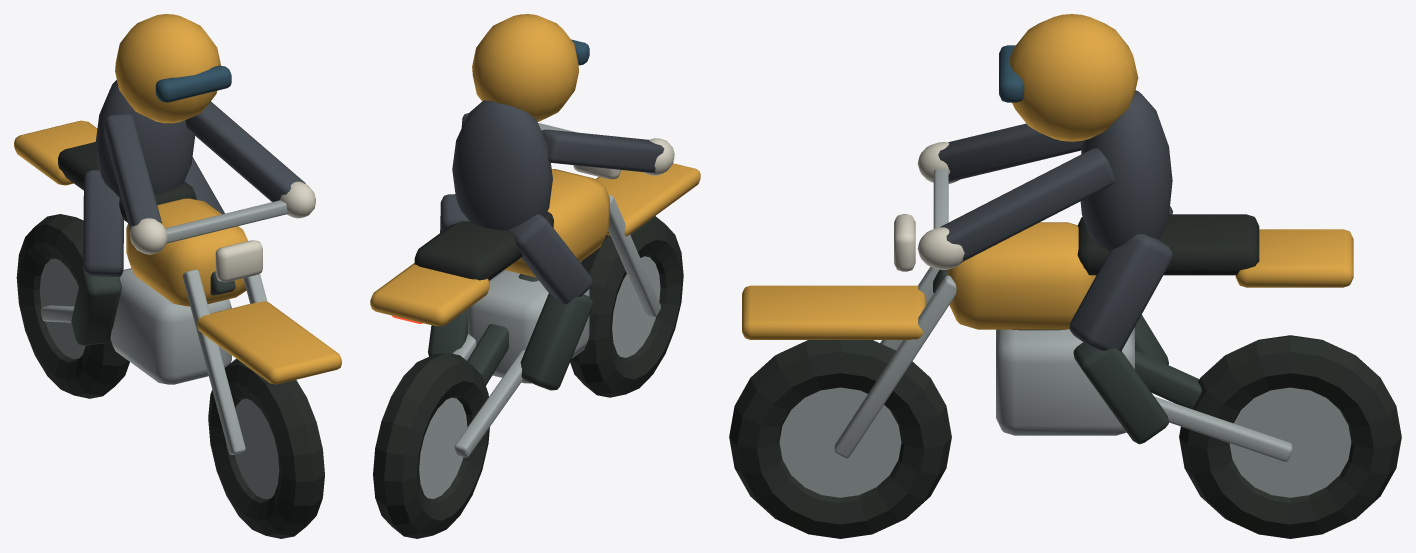
The model's file is car-10.glb.
3 views of the same model, side by side, from view 1: azimuth 30°, elevation 25°; view 2: azimuth 150°, elevation 25°; view 3: azimuth 270°, elevation 25° (orthographic). The views are drawn at different scales.
Parts seen in each view (by area): view 1: front_fender.001, engine.001, tyre.002, tyre.003, helmet.001, rider_torso.001, arm.003, thigh.002, arm.002, rim.002, boot.002, rim.003 (+7 smaller); view 2: front_fender.001, tyre.003, rider_torso.001, tyre.002, engine.001, helmet.001, seat.001, boot.002, thigh.002, arm.002, rim.003, rim.002 (+5 smaller); view 3: front_fender.001, tyre.002, tyre.003, engine.001, helmet.001, rider_torso.001, rim.003, rim.002, arm.003, thigh.003, seat.001, boot.003 (+8 smaller).
Part boxes in pixels (box(x1,y1,x2,y2)): front_fender.001: box(14, 120, 341, 384); engine.001: box(41, 268, 267, 454); tyre.002: box(208, 358, 324, 538); tyre.003: box(16, 214, 129, 398); helmet.001: box(115, 14, 220, 123); rider_torso.001: box(95, 80, 194, 197); arm.003: box(185, 101, 305, 201); thigh.002: box(83, 170, 123, 276); arm.002: box(104, 113, 162, 229); rim.002: box(234, 398, 279, 499); boot.002: box(71, 269, 121, 345); rim.003: box(39, 258, 85, 359); front_fender.001: box(370, 163, 700, 326); tyre.003: box(373, 352, 489, 538); rider_torso.001: box(452, 100, 552, 230); tyre.002: box(570, 216, 683, 397); engine.001: box(452, 195, 660, 457); helmet.001: box(472, 14, 578, 121); seat.001: box(414, 211, 553, 280); boot.002: box(520, 293, 593, 390); thigh.002: box(508, 214, 592, 304); arm.002: box(541, 129, 664, 172); rim.003: box(419, 397, 467, 498); rim.002: box(612, 256, 660, 357); front_fender.001: box(742, 222, 1353, 339); tyre.002: box(729, 340, 951, 538); tyre.003: box(1179, 335, 1401, 538); engine.001: box(834, 267, 1292, 461); helmet.001: box(1009, 14, 1138, 141); rider_torso.001: box(1080, 90, 1172, 251); rim.003: box(1229, 387, 1351, 497); rim.002: box(779, 387, 901, 497); arm.003: box(940, 148, 1114, 262); thigh.003: box(1069, 234, 1172, 351); seat.001: box(1077, 214, 1259, 275); boot.003: box(1073, 342, 1168, 444).
Size of the model in its own units: 1.14 by 2.67 by 3.14.
